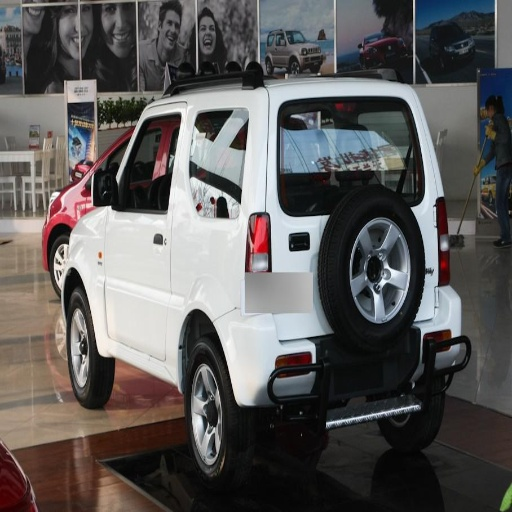back_bumper: (230, 357, 321, 420)
back_glass: (307, 100, 408, 146)
